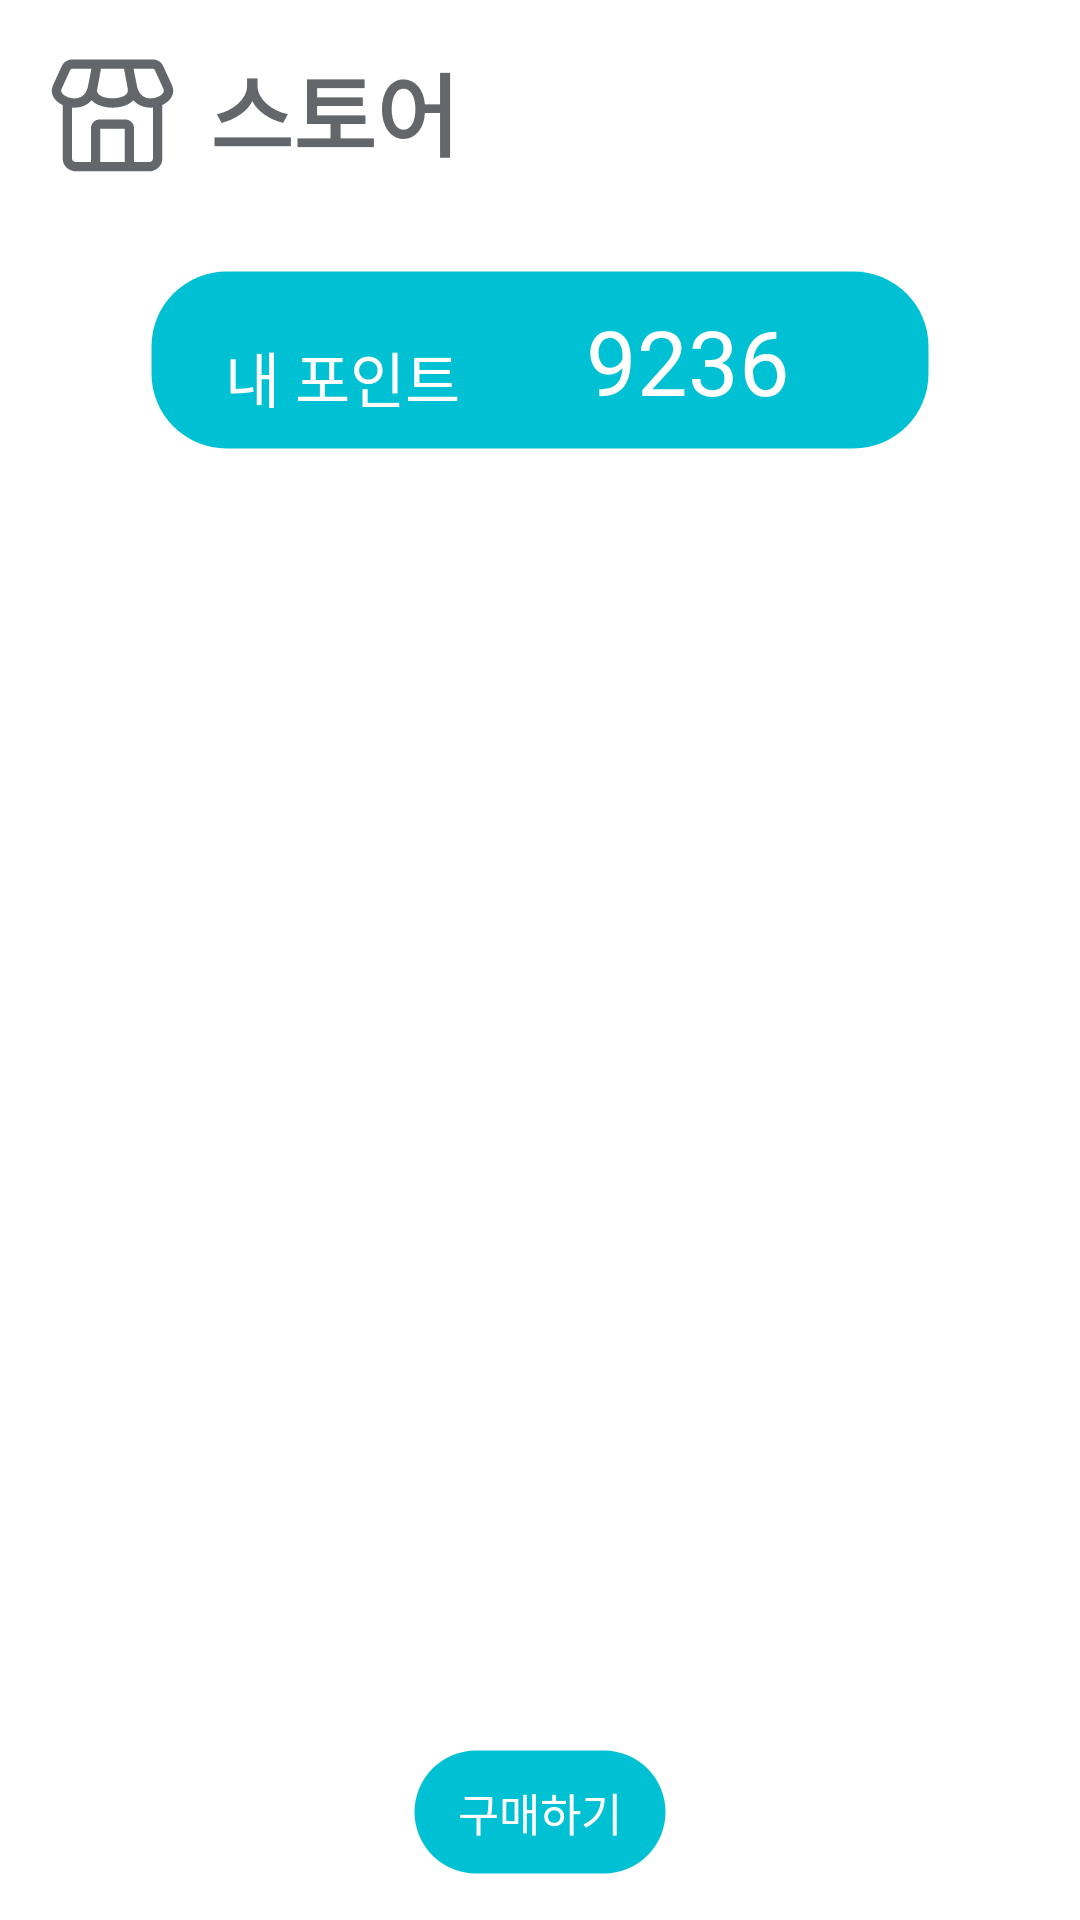

Icon bounding boxes for this 1080px x 1920px phone screenshot, format {"left": x1, "top": y1, "right": x2, "bottom": y2}:
store: {"left": 51, "top": 59, "right": 174, "bottom": 172}
